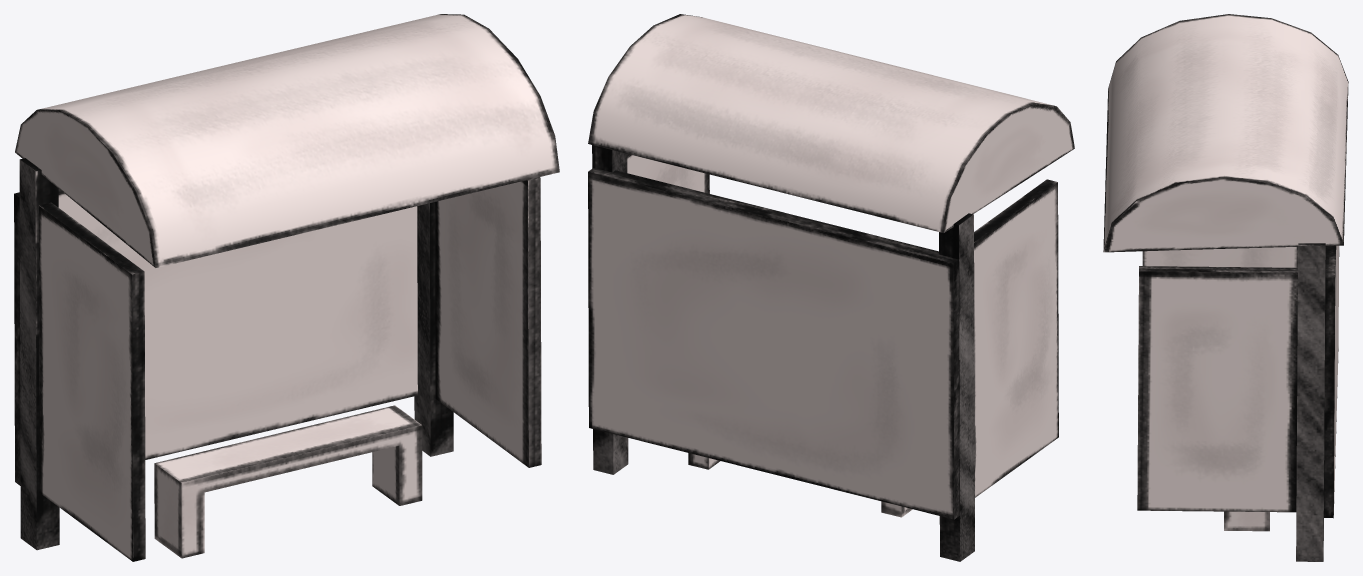
File: abris bus.fbx
3 renders of one model, left to right at view 1: azimuth 30°, elevation 25°; view 2: azimuth 150°, elevation 25°; view 3: azimuth 270°, elevation 25°, orthographic. The views are drawn at different scales.
Visible parts, largest first — view 1: abris bus; view 2: abris bus; view 3: abris bus.
Part boxes in pixels (x1=…): abris bus: x1=14, y1=14, x2=559, y2=561; abris bus: x1=588, y1=14, x2=1074, y2=561; abris bus: x1=1103, y1=14, x2=1348, y2=561.
Size of the model in its own units: 183 by 193 by 112.
